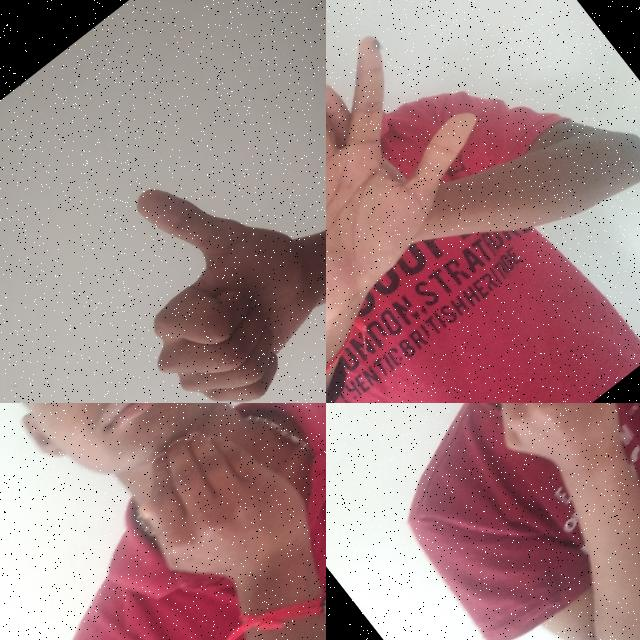Chin Flick: (0, 403, 326, 640), (326, 403, 640, 534)
Moutza: (326, 0, 532, 343), (326, 33, 454, 358)
Thumbs Up: (57, 122, 326, 403)
